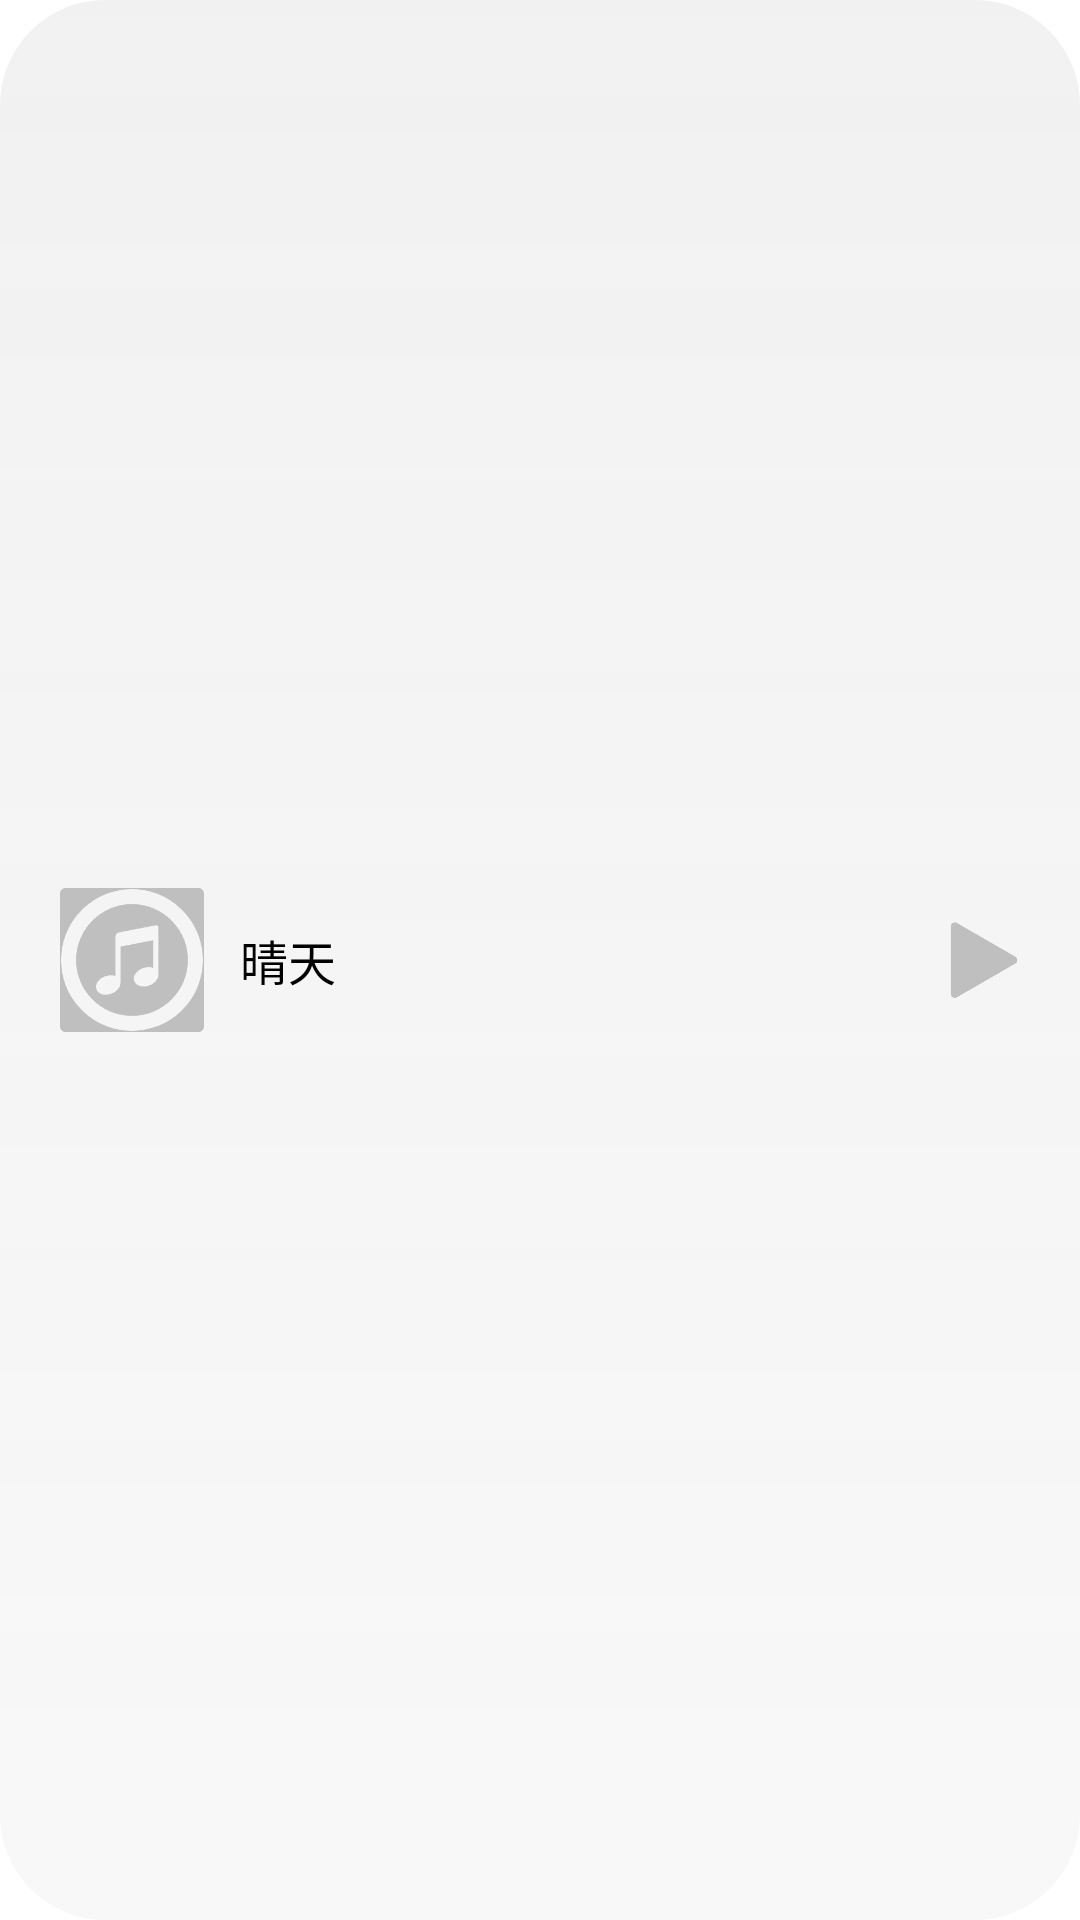

Icon bounding boxes for this 1080 x 1920 phone screenshot, format (x1, y1, x2, y2):
fengmian: (60, 888, 204, 1032)
play: (951, 922, 1017, 998)
